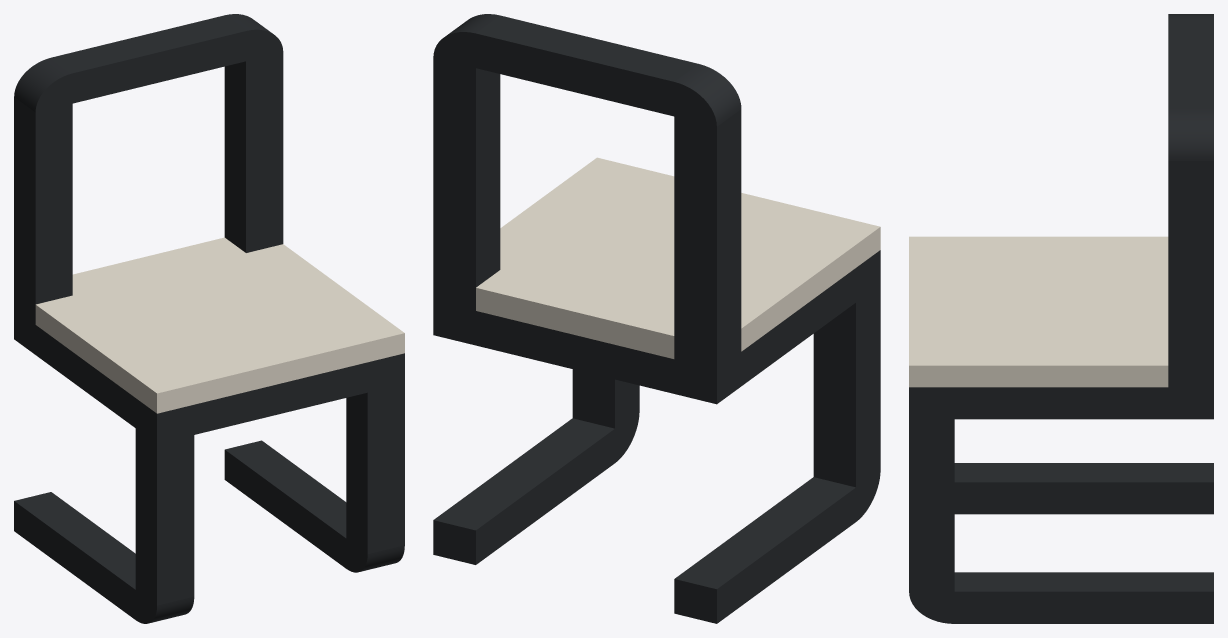
The model's file is outdoor-chair.glb.
The picture shows the model from 3 angles, left to right: view 1: azimuth 30°, elevation 25°; view 2: azimuth 150°, elevation 25°; view 3: azimuth 270°, elevation 25°; orthographic projection. The views are drawn at different scales.
Parts seen in each view (by area): view 1: outdoor-chair; view 2: outdoor-chair; view 3: outdoor-chair.
Part boxes in pixels (x1=…): outdoor-chair: x1=14, y1=14, x2=404, y2=623; outdoor-chair: x1=433, y1=14, x2=880, y2=623; outdoor-chair: x1=909, y1=14, x2=1213, y2=623.
Bounding box in the file's own units: 0.48 × 0.86 × 0.48.
